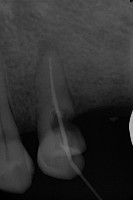Furcation Involvement: (36, 32, 66, 62)
